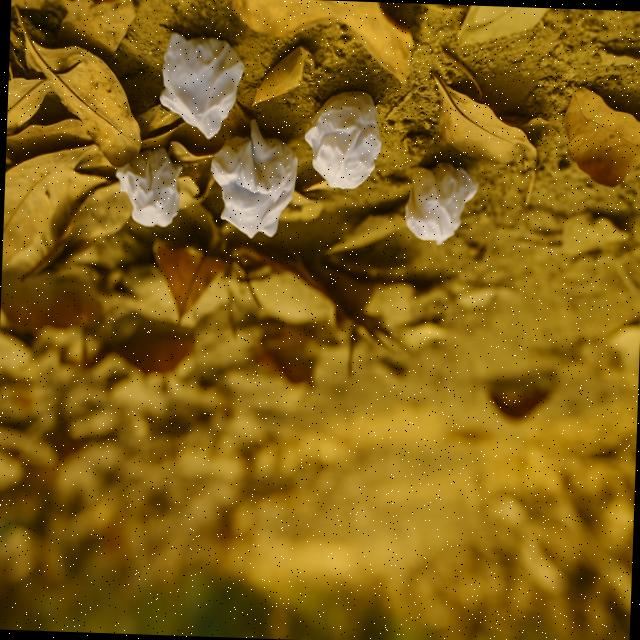paper: (207, 122, 300, 245), (157, 26, 243, 144), (304, 88, 384, 193), (403, 150, 482, 249), (113, 144, 181, 238)
